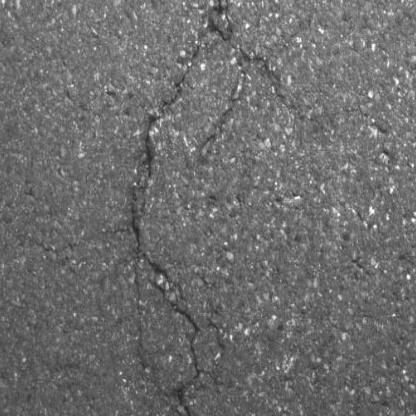Cracks: (127, 42, 206, 416), (207, 0, 286, 121)
